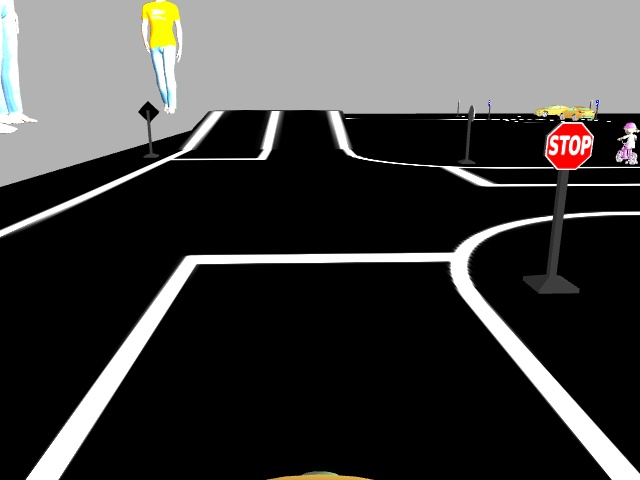Stop: (544, 119, 596, 172)
